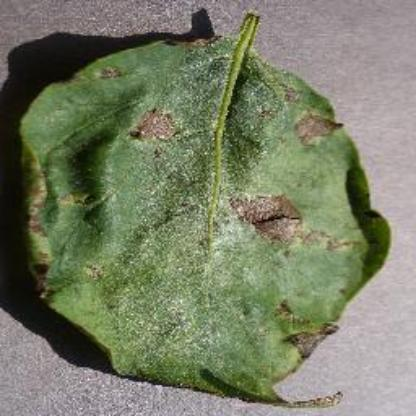Early-Blight: (6, 3, 410, 415)
